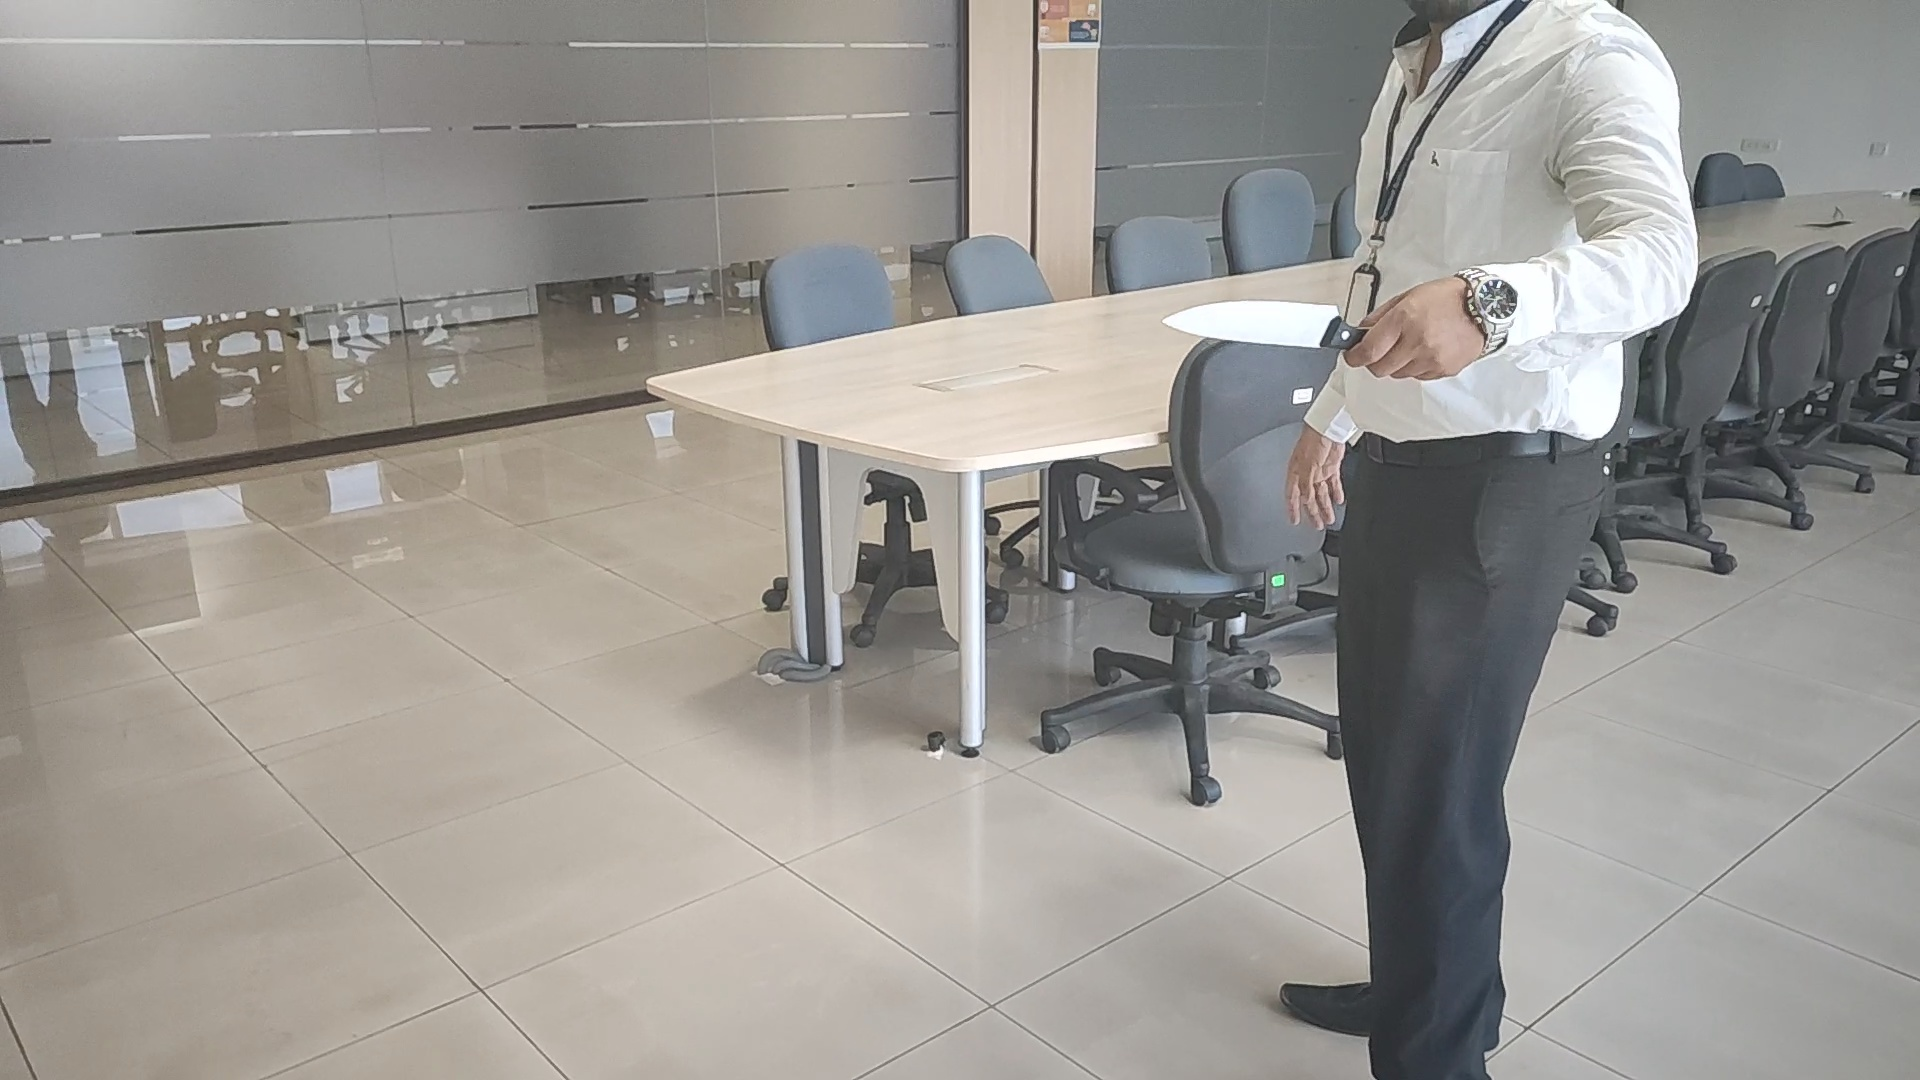knife: (1163, 295, 1358, 353)
